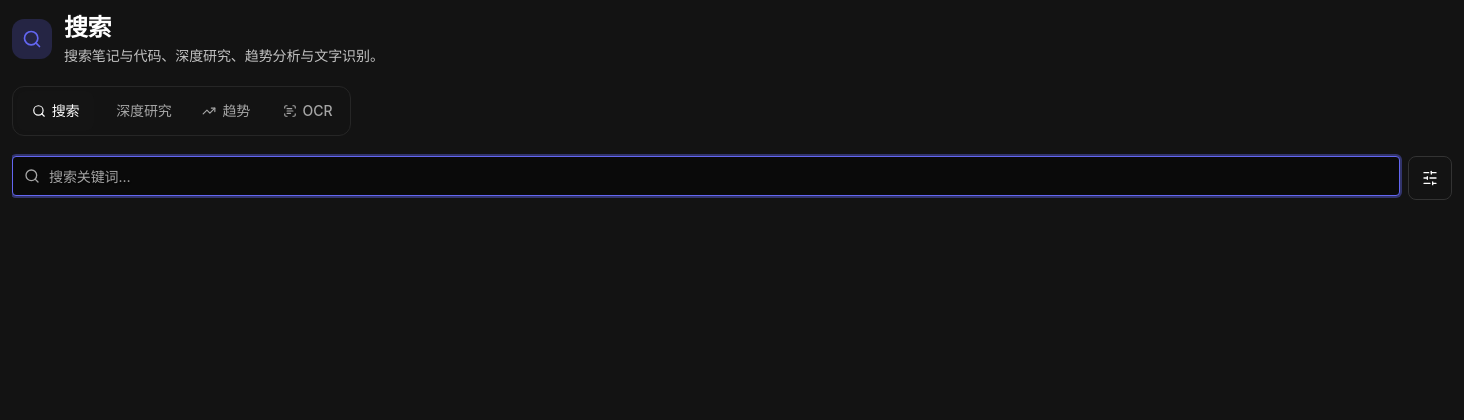
Test: Search page — usage scenarios › C4：三源全部失败时显示可见错误（不再只显示「没有匹配结果」）
Type "router" into the field labelled "搜索关键词" at (706, 176), box x1=12 y1=156 x2=1400 y2=196
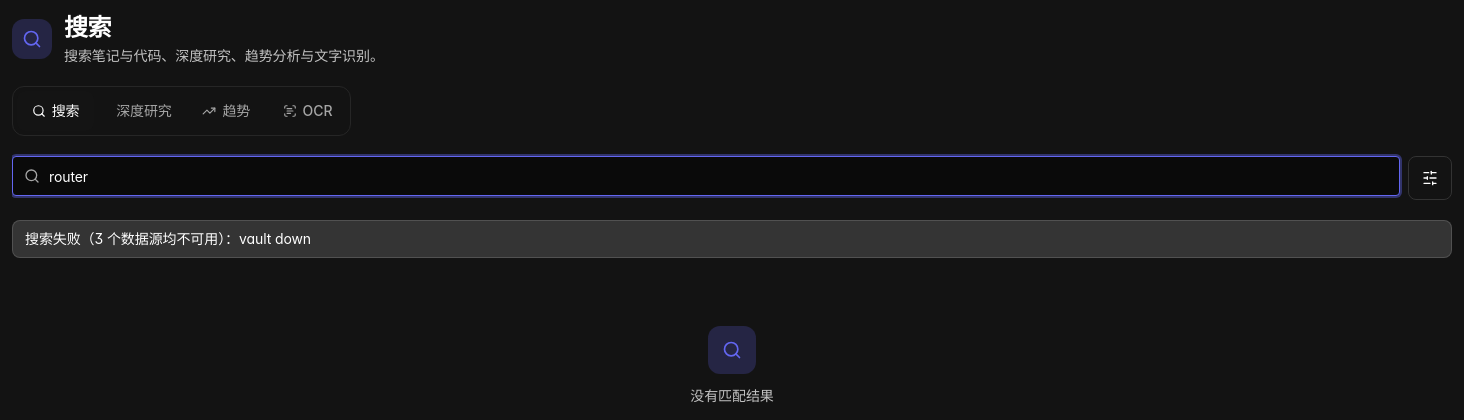
Check: the message shows "搜索失败（3 个数据源均不可用）", box x1=25 y1=230 x2=311 y2=247
